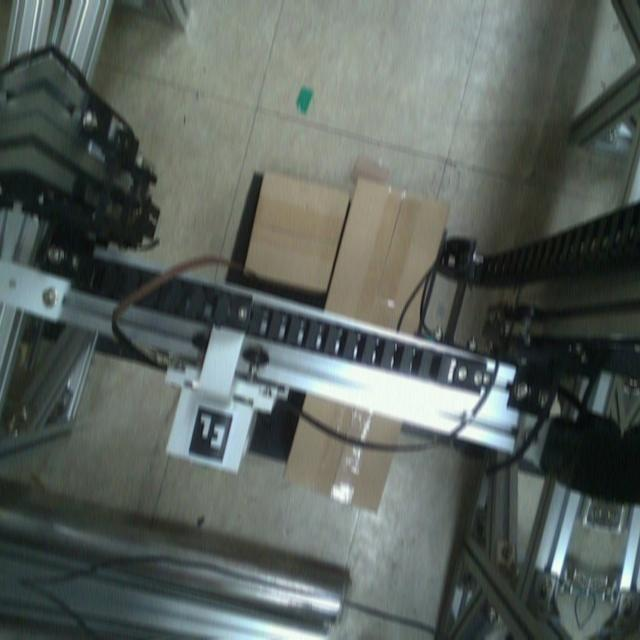box: (237, 166, 356, 296)
